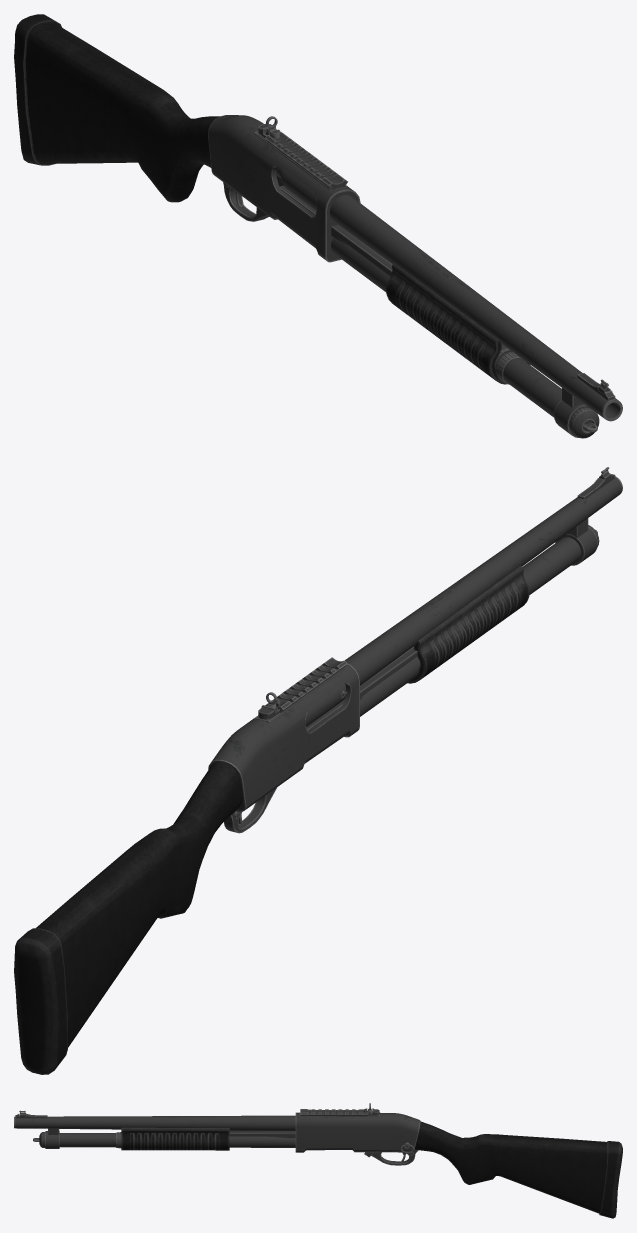
Rendered from pack-shotgun.glb.
The picture shows the model from 3 angles, top to bottom: view 1: azimuth 30°, elevation 25°; view 2: azimuth 150°, elevation 25°; view 3: azimuth 270°, elevation 25°; orthographic projection. The views are drawn at different scales.
Parts seen in each view (by area): view 1: Remington body/pump (×2); view 2: Remington body/pump (×2); view 3: Remington body/pump (×2).
Part boxes in pixels (left/top/right/bottom): Remington body/pump (×2): left=14, top=14, right=622, bottom=438; Remington body/pump (×2): left=14, top=467, right=622, bottom=1074; Remington body/pump (×2): left=14, top=1103, right=622, bottom=1218.
Size of the model in its own units: 0.033 by 0.1428 by 0.7.
Materials: 1 (1 with a texture image).
